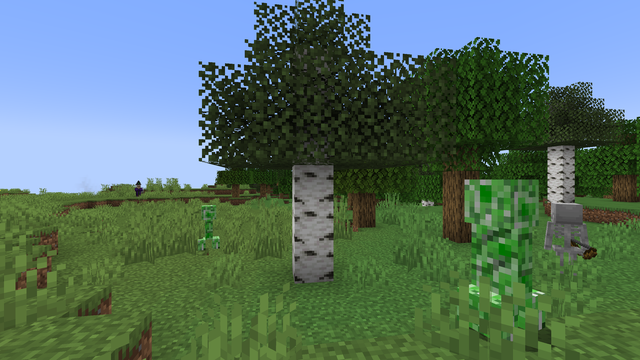creepers: (457, 171, 549, 342), (198, 203, 218, 250)
sorcieres: (135, 184, 141, 196)
squelettes: (559, 202, 588, 284)
